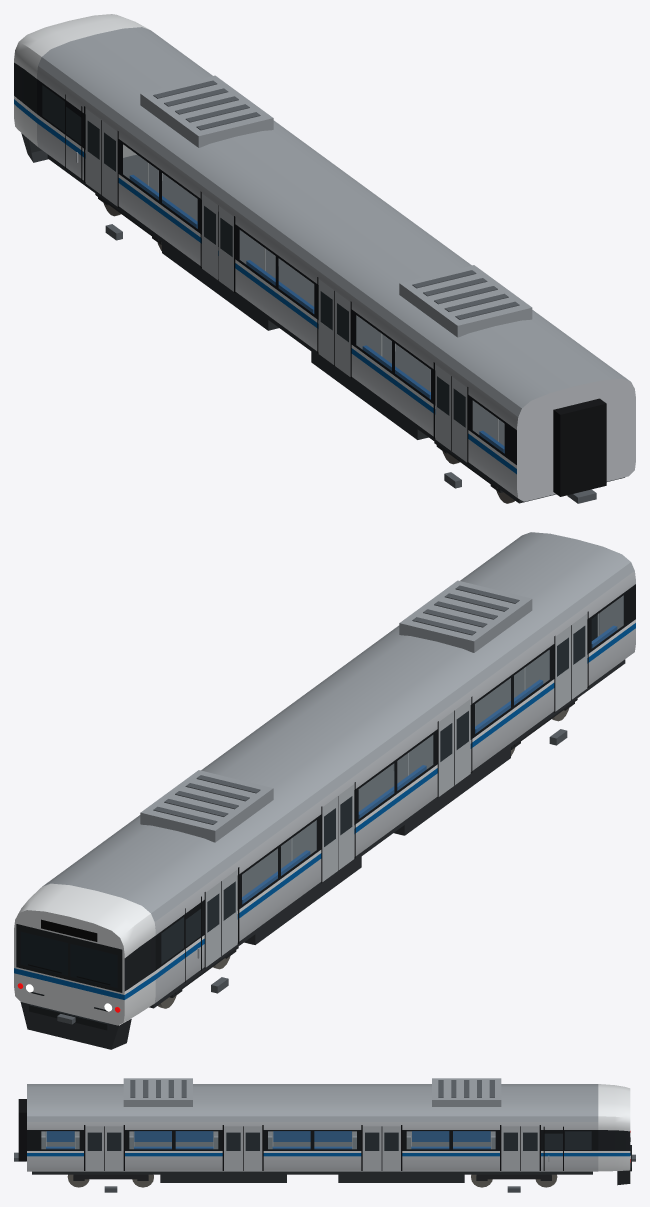
Rendered from taipei-hc-lead.glb.
3 renders of one model, top to bottom at view 1: azimuth 30°, elevation 25°; view 2: azimuth 150°, elevation 25°; view 3: azimuth 270°, elevation 25°, orthographic. The views are drawn at different scales.
Parts seen in each view (by area): view 1: TaipeiHC_Lead; view 2: TaipeiHC_Lead; view 3: TaipeiHC_Lead.
Part boxes in pixels (x1=…): TaipeiHC_Lead: x1=14, y1=14, x2=635, y2=503; TaipeiHC_Lead: x1=14, y1=532, x2=635, y2=1049; TaipeiHC_Lead: x1=14, y1=1078, x2=635, y2=1192.
Size of the model in its own units: 3.28 by 3.88 by 24.22.
